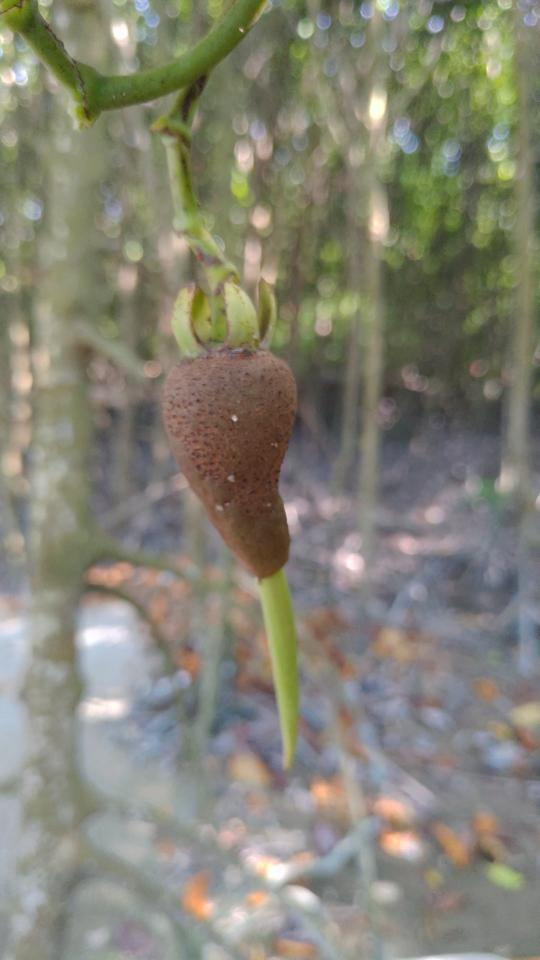mentah: (149, 282, 345, 780)
